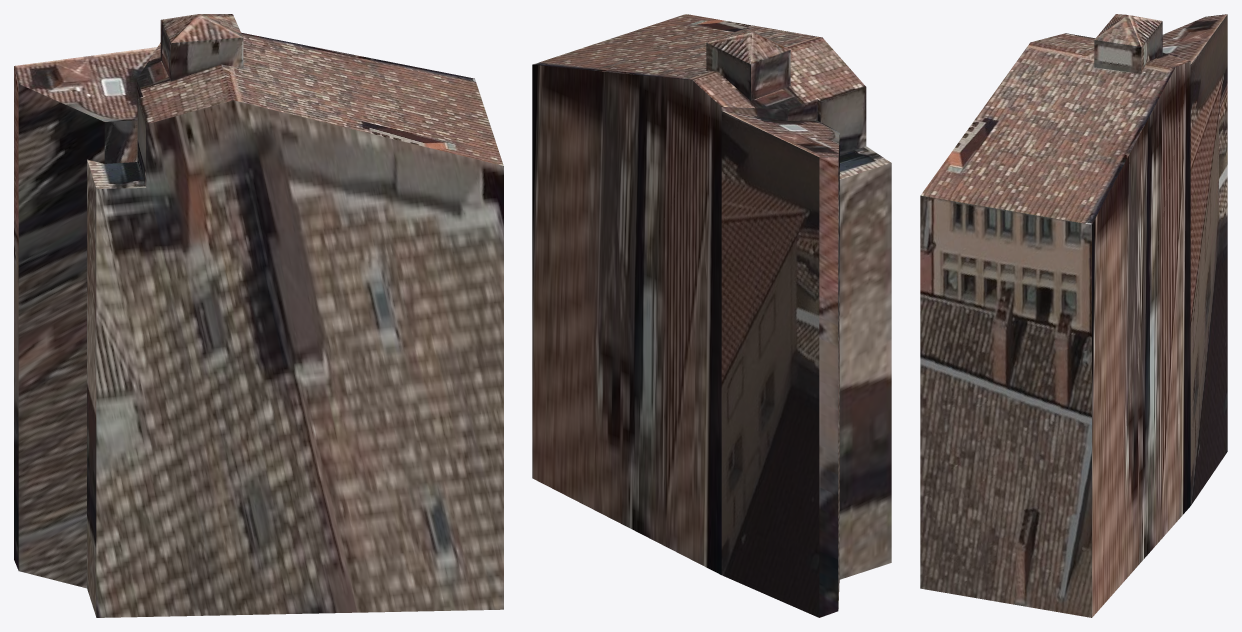
3 renders of one model, left to right at view 1: azimuth 30°, elevation 25°; view 2: azimuth 150°, elevation 25°; view 3: azimuth 270°, elevation 25°, orthographic. The views are drawn at different scales.
Visible parts, largest first — view 1: Z_UP; view 2: Z_UP; view 3: Z_UP.
Part boxes in pixels (bbox=[...]): Z_UP: bbox=[14, 14, 503, 617]; Z_UP: bbox=[532, 14, 891, 617]; Z_UP: bbox=[920, 14, 1227, 617].
Size of the model in its own units: 17.66 by 23.92 by 13.52.
2 materials, 1 textured.
